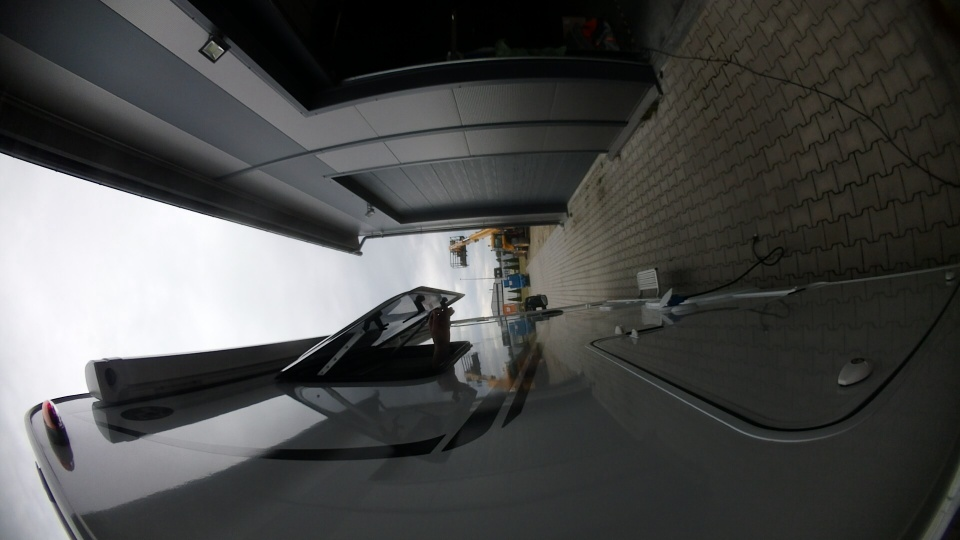step_back: (631, 266, 665, 297)
window_back: (273, 257, 473, 387)
